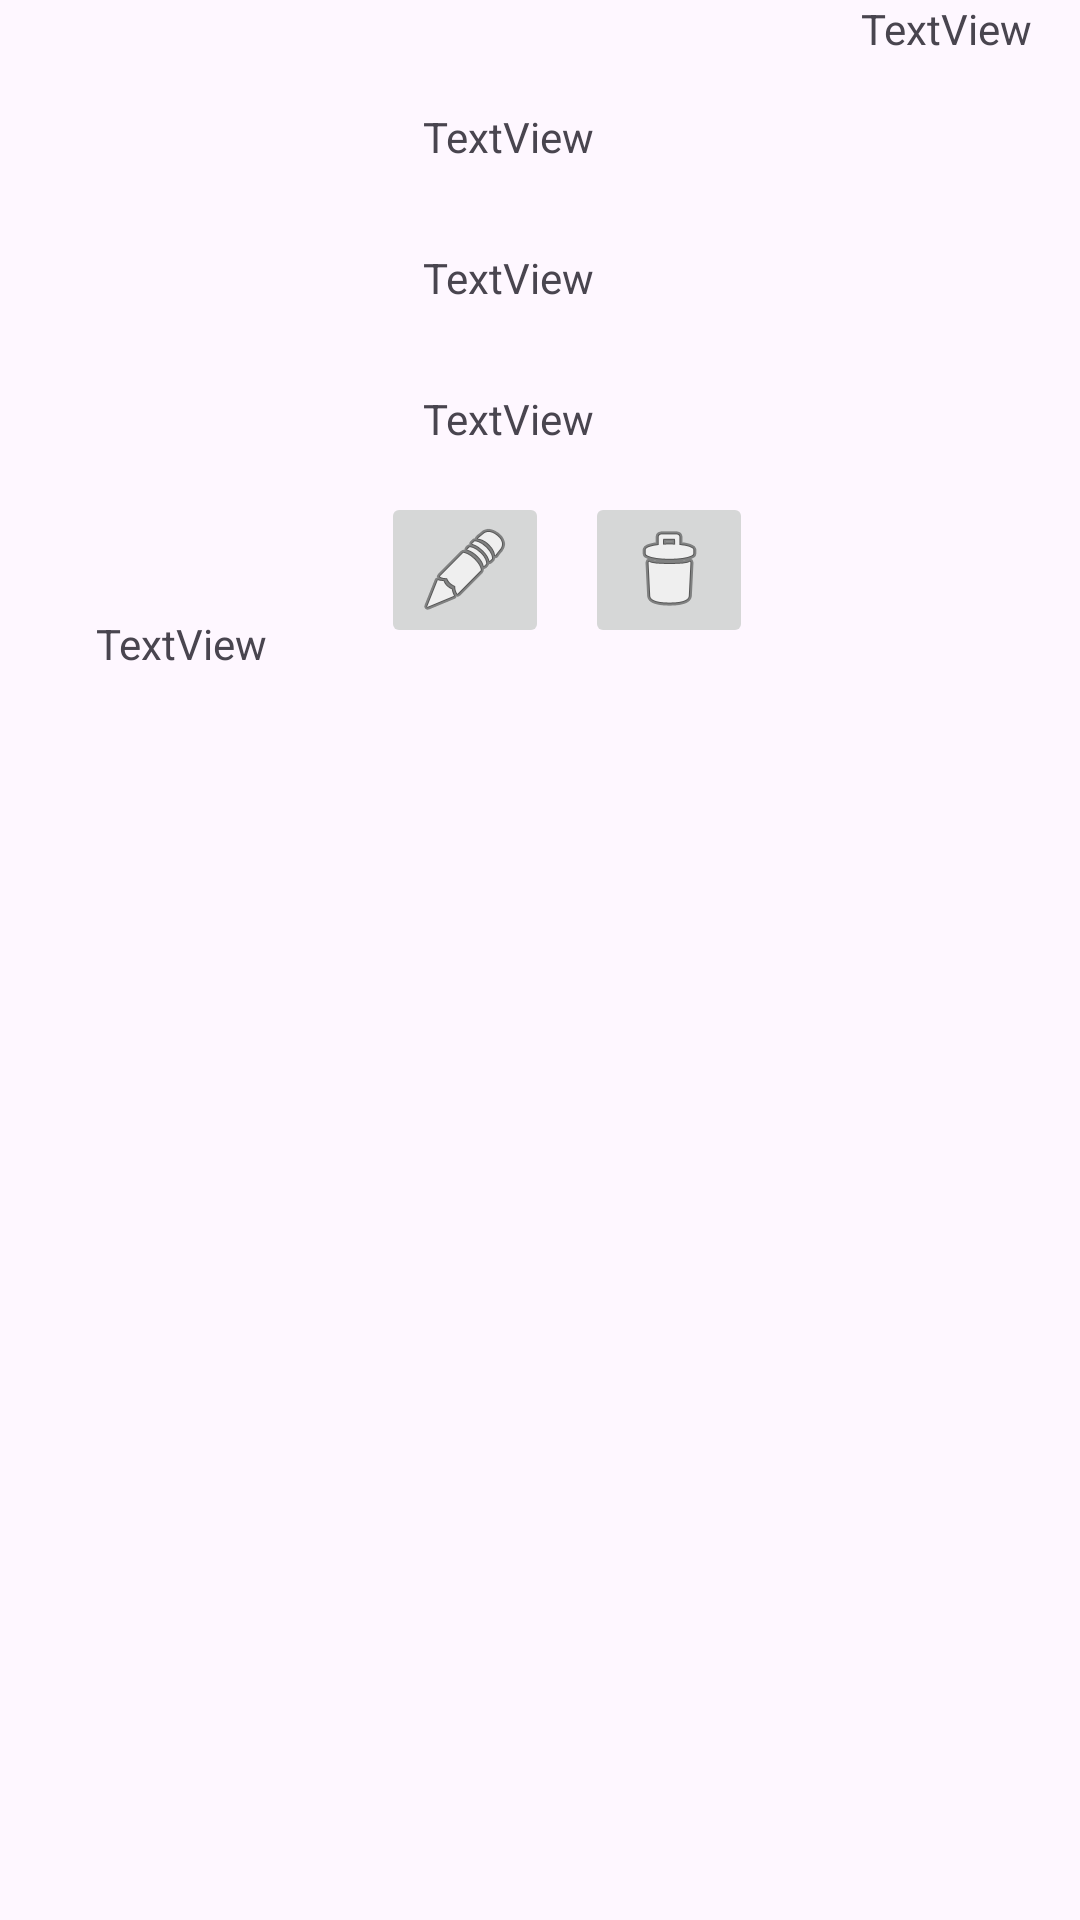

Named icons in this screenshot (1080w x 1920h) and their centers, [x,y]:
delete: [669,570]
edit: [465,570]
